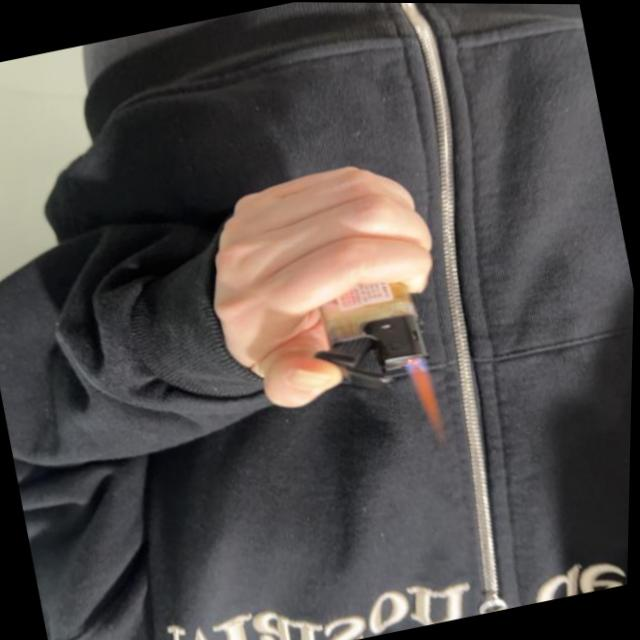Fire: (402, 353, 449, 448)
